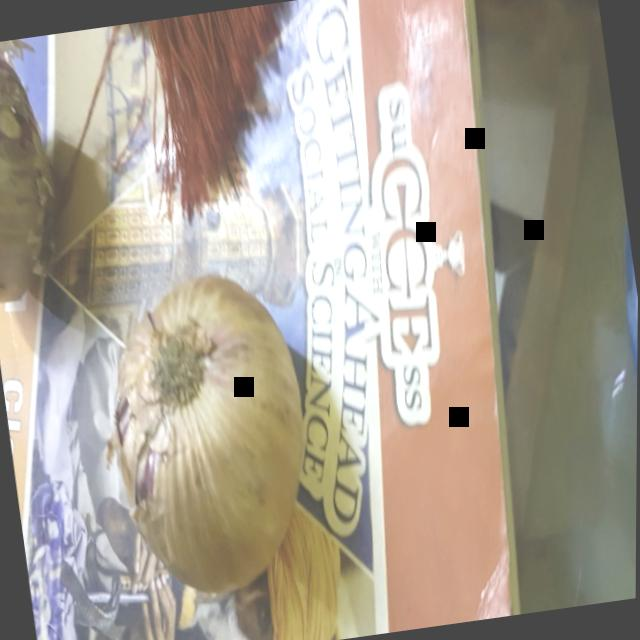onion: (84, 251, 343, 618)
